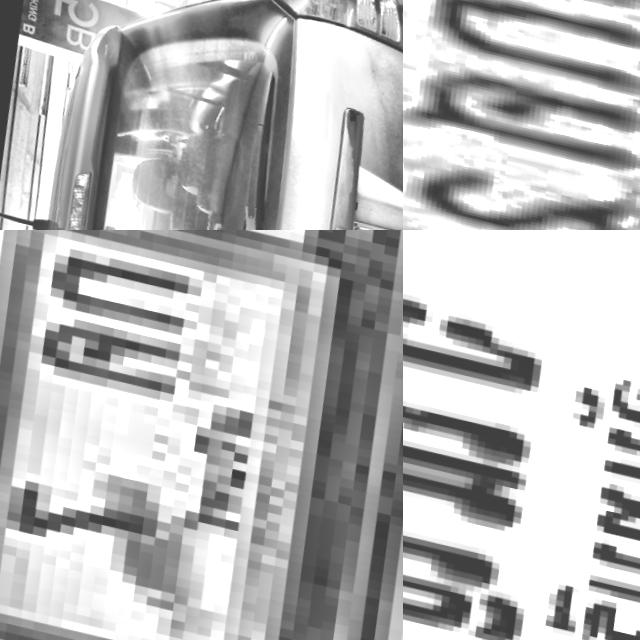license-plate: (0, 230, 403, 640), (403, 230, 640, 640), (403, 0, 640, 230)
